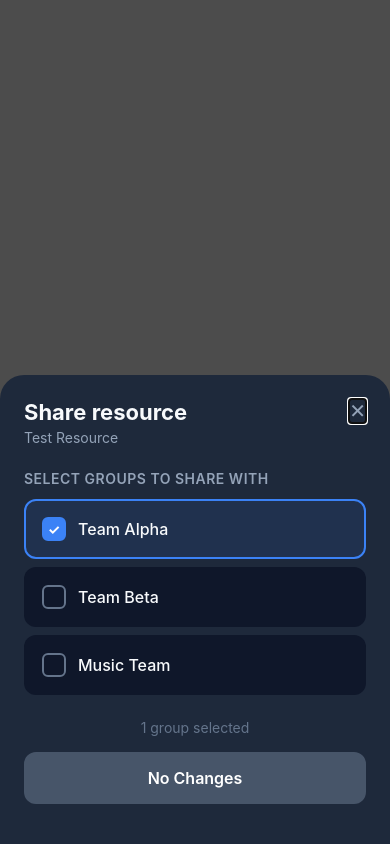
Test: ShareResourceModal › should toggle group selection on press
expect the text "Team Alpha" is shown: met, box [78,519,168,539]
# Select Team Beta
Click the text "Team Beta".
click(118, 597)  # box [78,587,159,607]
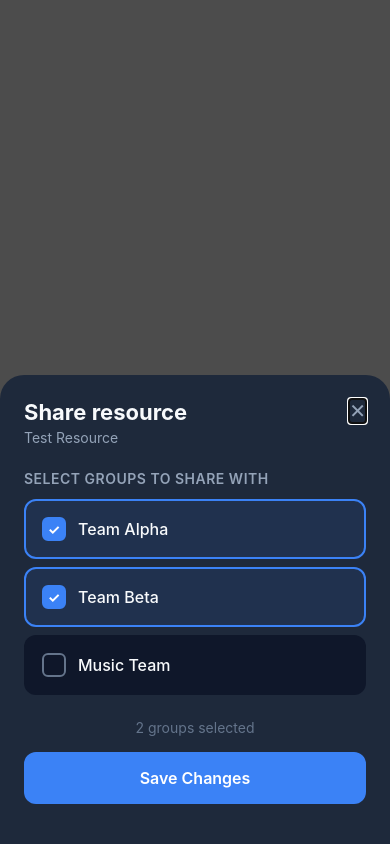
expect the text "2 groups selected" is shown: met, box [136,719,254,736]
